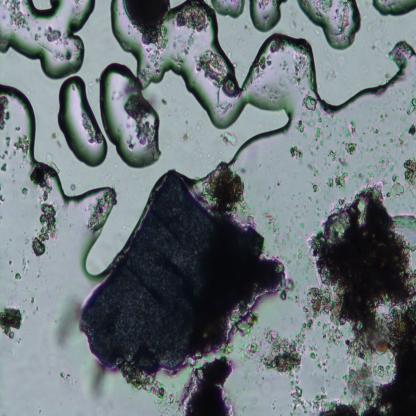Air bubble: (106, 0, 322, 125), (0, 0, 100, 78), (98, 67, 163, 172), (54, 70, 107, 167), (292, 0, 362, 54), (246, 0, 290, 35), (370, 0, 416, 20), (212, 0, 247, 19)
Background material: (303, 185, 416, 320), (335, 305, 415, 416), (238, 326, 305, 381), (180, 354, 236, 416), (290, 316, 340, 375), (129, 369, 181, 416), (329, 119, 369, 172), (386, 132, 416, 202), (52, 294, 84, 350), (30, 200, 58, 256), (308, 112, 342, 158), (309, 385, 359, 416), (140, 30, 168, 70), (87, 361, 113, 404), (264, 207, 286, 255), (0, 303, 24, 340), (36, 170, 62, 200), (174, 8, 207, 31), (332, 0, 353, 35), (289, 381, 309, 416), (286, 276, 306, 308), (292, 54, 308, 86), (240, 199, 257, 226), (18, 135, 32, 166), (324, 172, 348, 190), (0, 137, 11, 173), (288, 144, 306, 163), (58, 369, 78, 386), (0, 94, 8, 132), (180, 128, 196, 145), (223, 130, 237, 147), (303, 164, 320, 177), (375, 159, 387, 177), (273, 39, 286, 55), (302, 96, 319, 108), (19, 180, 30, 198), (348, 170, 364, 182), (297, 119, 307, 137), (261, 55, 273, 69), (406, 123, 416, 139), (324, 68, 336, 81), (407, 98, 416, 115), (290, 211, 300, 226), (362, 172, 374, 184), (13, 268, 22, 283), (308, 182, 319, 194), (368, 125, 380, 135), (22, 259, 30, 274), (272, 90, 280, 104), (262, 192, 272, 202), (284, 232, 292, 244), (281, 257, 291, 266), (30, 306, 40, 315), (378, 112, 386, 122), (400, 113, 408, 122), (276, 178, 283, 188), (271, 399, 277, 410), (280, 292, 288, 300), (375, 138, 380, 150), (317, 205, 321, 217), (298, 248, 302, 259), (239, 167, 246, 173), (247, 184, 253, 191), (16, 335, 21, 343), (294, 253, 298, 261), (37, 272, 41, 280), (369, 147, 375, 152), (286, 226, 292, 231), (384, 113, 389, 118), (383, 177, 387, 183), (127, 394, 131, 400), (382, 144, 388, 148), (301, 224, 305, 230), (31, 296, 35, 302), (297, 260, 300, 267), (272, 190, 276, 195), (37, 409, 42, 413), (9, 259, 12, 265), (292, 195, 295, 201), (366, 166, 370, 170), (308, 196, 312, 200), (392, 107, 395, 112), (258, 165, 262, 167)
Diatom: (123, 0, 170, 28), (222, 76, 240, 96)
Fragment: (77, 163, 260, 372)
